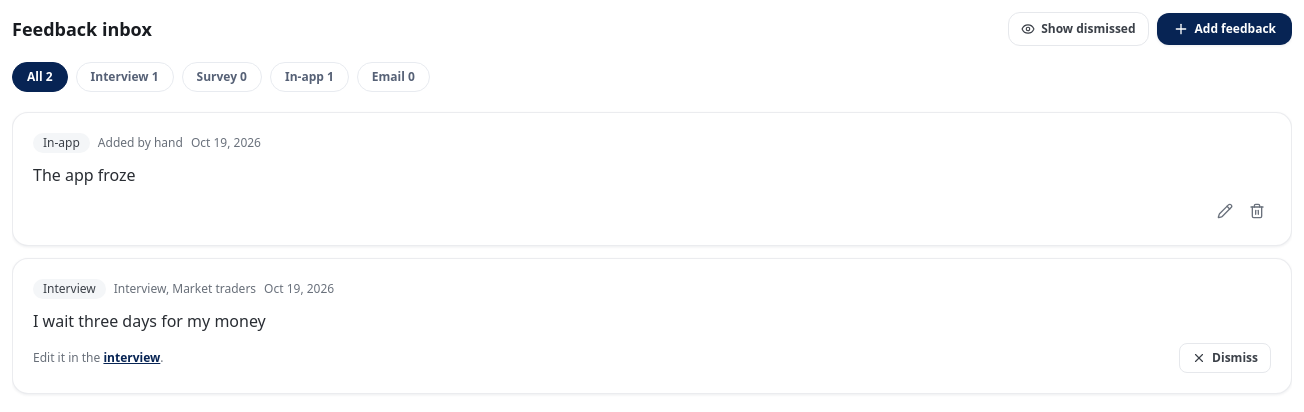
Test case: FeedbackInbox › shows counts per source and filters by tab
Check: the tab "All 2" is shown, box [12,62,68,92]
Click the tab "Interview 1".
click(125, 77)  # box [76,62,174,92]
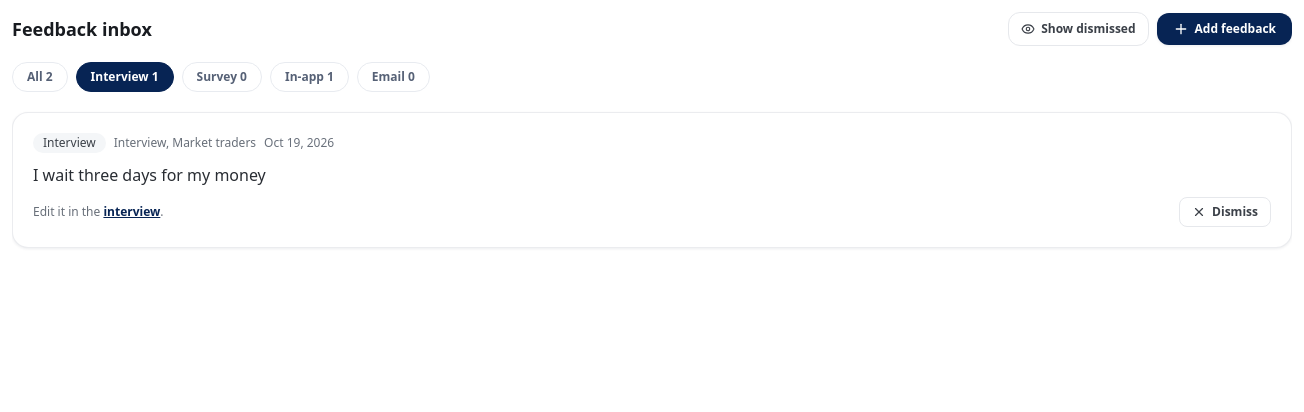
Check: the text "I wait three days for my money" is shown, box [33,164,266,186]
Check: the text "The app froze" is gone
